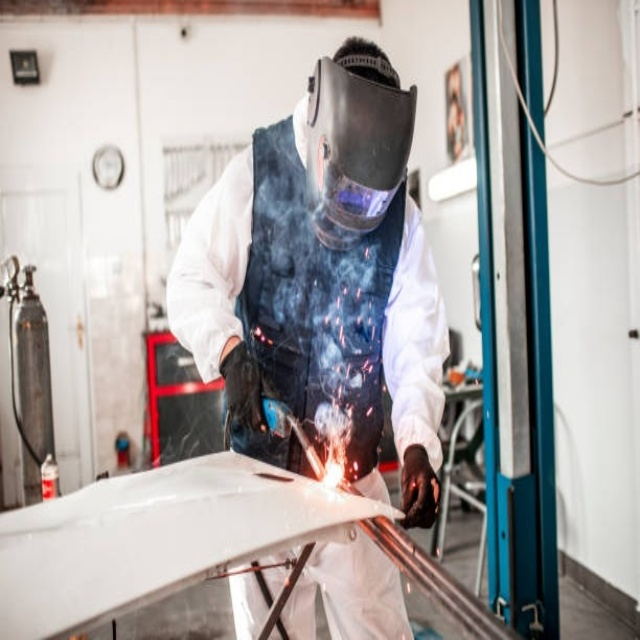Guantes: (219, 339, 265, 436), (401, 444, 441, 529)
